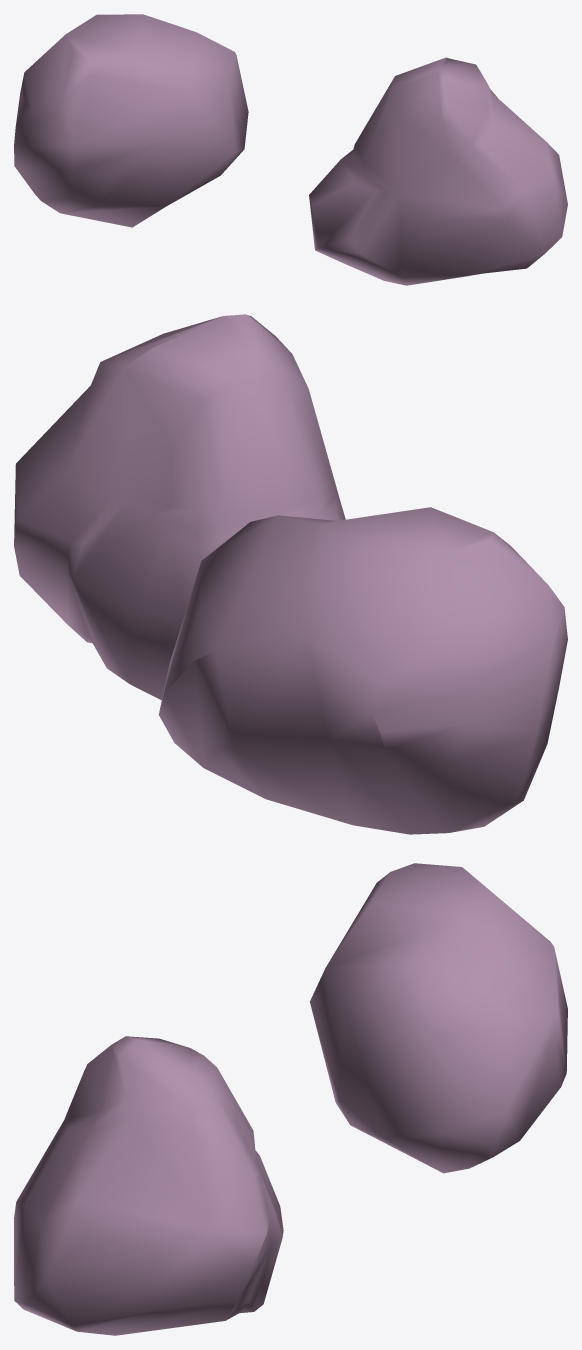
The model's file is cmc_largerocks_low.fbx.
3 renders of one model, top to bottom at view 1: azimuth 30°, elevation 25°; view 2: azimuth 150°, elevation 25°; view 3: azimuth 270°, elevation 25°, orthographic. The views are drawn at different scales.
Visible parts, largest first — view 1: large_rock_02_low, large_rock_01_low; view 2: large_rock_01_low, large_rock_02_low; view 3: large_rock_02_low, large_rock_01_low.
Part boxes in pixels (<box>): large_rock_02_low: <box>309,57,567,285</box>; large_rock_01_low: <box>14,14,248,227</box>; large_rock_01_low: <box>159,507,567,834</box>; large_rock_02_low: <box>14,314,345,700</box>; large_rock_02_low: <box>14,1036,283,1335</box>; large_rock_01_low: <box>310,863,567,1173</box>.
Bounding box in the file's own units: 1011 × 518 × 872.
